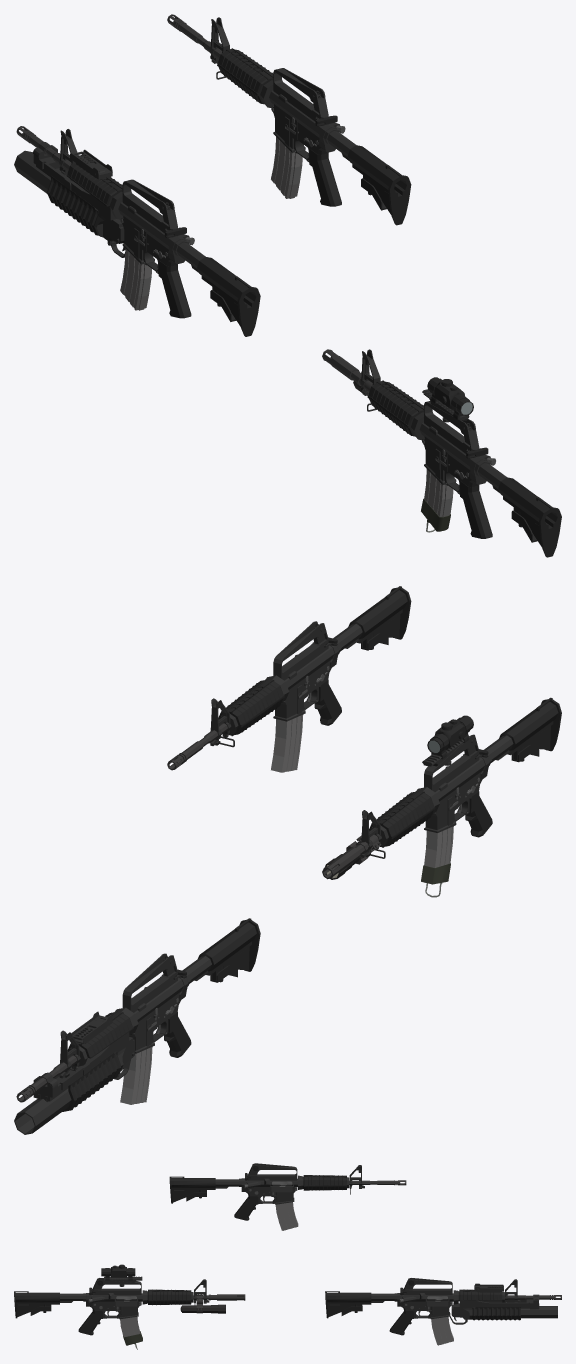
The model's file is Car_15.fbx.
3 views of the same model, one above another, from view 1: azimuth 30°, elevation 25°; view 2: azimuth 150°, elevation 25°; view 3: azimuth 270°, elevation 25° (orthographic). The views are drawn at different scales.
Visible parts, largest first — view 1: Stock_Collapsable (×2), Rifle_Body (×2), Body_Carry_Handle_Built_in (×3), Magazine_30_Round (×3), Handguard_Car_15 (×2), grip (×3), Stock_Collapsable_M16A2, Rifle_Body_AR, M203, M203_Tube_Grip, Handguard_Car_15_GL, M203_Tube; view 2: Rifle_Body (×2), Stock_Collapsable (×2), Body_Carry_Handle_Built_in (×3), Magazine_30_Round (×3), Handguard_Car_15 (×2), grip (×3), Rifle_Body_AR, Stock_Collapsable_M16A2, M203_Tube_Grip, M203_Tube, M203, Handguard_Car_15_GL; view 3: Rifle_Body (×2), Stock_Collapsable (×2), Body_Carry_Handle_Built_in (×3), Handguard_Car_15 (×2), Magazine_30_Round (×3), grip (×3), Rifle_Body_AR, Stock_Collapsable_M16A2, M203, M203_Tube_Grip, Handguard_Car_15_GL, M203_Tube (+3 smaller).
Part boxes in pixels (bbox=[...]): Stock_Collapsable (×2): bbox=[197, 145, 411, 336]; Rifle_Body (×2): bbox=[118, 198, 487, 487]; Body_Carry_Handle_Built_in (×3): bbox=[122, 68, 479, 449]; Magazine_30_Round (×3): bbox=[120, 137, 453, 516]; Handguard_Car_15 (×2): bbox=[217, 48, 423, 436]; grip (×3): bbox=[158, 149, 492, 538]; Stock_Collapsable_M16A2: bbox=[498, 477, 561, 557]; Rifle_Body_AR: bbox=[269, 87, 336, 154]; M203: bbox=[44, 160, 124, 245]; M203_Tube_Grip: bbox=[47, 175, 98, 235]; Handguard_Car_15_GL: bbox=[66, 163, 122, 206]; M203_Tube: bbox=[14, 150, 50, 193]; Rifle_Body (×2): bbox=[129, 752, 489, 1053]; Stock_Collapsable (×2): bbox=[198, 586, 411, 980]; Body_Carry_Handle_Built_in (×3): bbox=[122, 621, 479, 1010]; Magazine_30_Round (×3): bbox=[120, 715, 453, 1104]; Handguard_Car_15 (×2): bbox=[218, 679, 435, 847]; grip (×3): bbox=[164, 679, 492, 1057]; Rifle_Body_AR: bbox=[273, 640, 338, 721]; Stock_Collapsable_M16A2: bbox=[499, 697, 561, 759]; M203_Tube_Grip: bbox=[62, 1051, 121, 1111]; M203_Tube: bbox=[14, 1088, 71, 1134]; M203: bbox=[54, 1032, 134, 1093]; Handguard_Car_15_GL: bbox=[68, 1011, 133, 1058]; Rifle_Body (×2): bbox=[86, 1289, 453, 1319]; Stock_Collapsable (×2): bbox=[169, 1176, 371, 1318]; Body_Carry_Handle_Built_in (×3): bbox=[92, 1163, 452, 1292]; Handguard_Car_15 (×2): bbox=[147, 1175, 346, 1305]; Magazine_30_Round (×3): bbox=[120, 1202, 453, 1345]; grip (×3): bbox=[78, 1196, 413, 1335]; Rifle_Body_AR: bbox=[241, 1174, 297, 1204]; Stock_Collapsable_M16A2: bbox=[14, 1291, 59, 1318]; M203: bbox=[451, 1299, 528, 1322]; M203_Tube_Grip: bbox=[472, 1307, 520, 1320]; Handguard_Car_15_GL: bbox=[458, 1289, 502, 1300]; M203_Tube: bbox=[521, 1303, 557, 1318].
Size of the model in its own units: 2.91 by 26.25 by 70.45.
21 materials, 21 textured.
